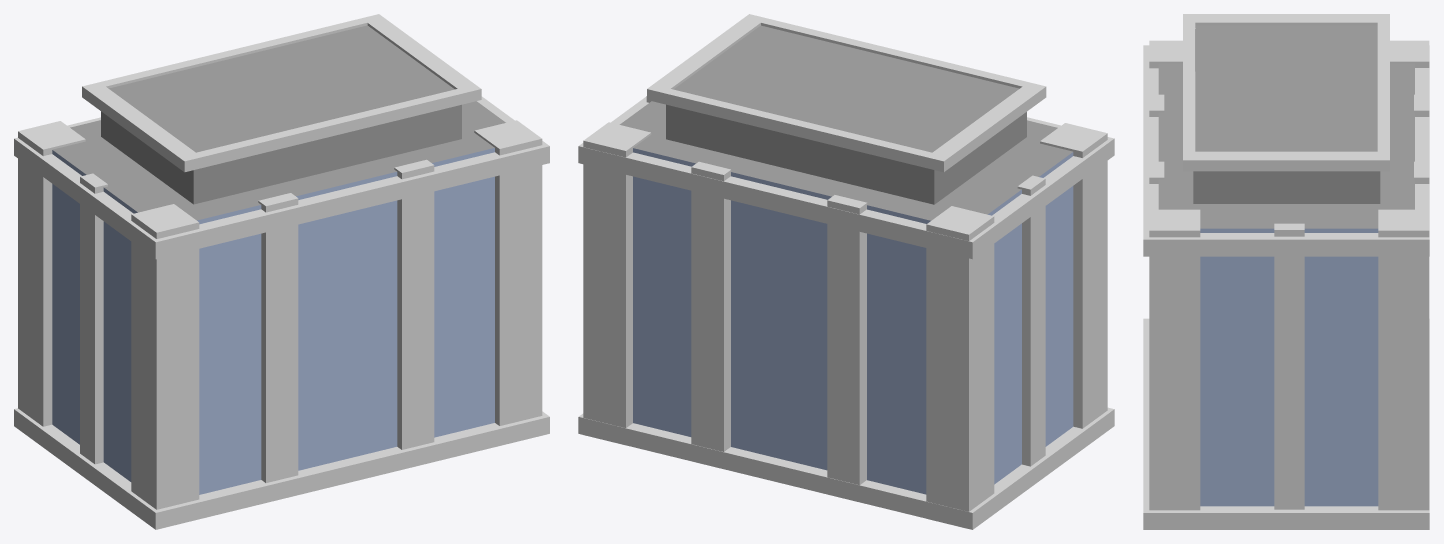
The model's file is Bld_Sanya2.fbx.
3 views of the same model, side by side, from view 1: azimuth 30°, elevation 25°; view 2: azimuth 150°, elevation 25°; view 3: azimuth 270°, elevation 25° (orthographic).
Parts seen in each view (by area): view 1: Cube.206; view 2: Cube.206; view 3: Cube.206.
Part boxes in pixels (x1,y1,x2,y2): Cube.206: [14, 14, 549, 529]; Cube.206: [578, 14, 1114, 529]; Cube.206: [1143, 14, 1429, 529].
Size of the model in its own units: 675 by 561 by 421.
